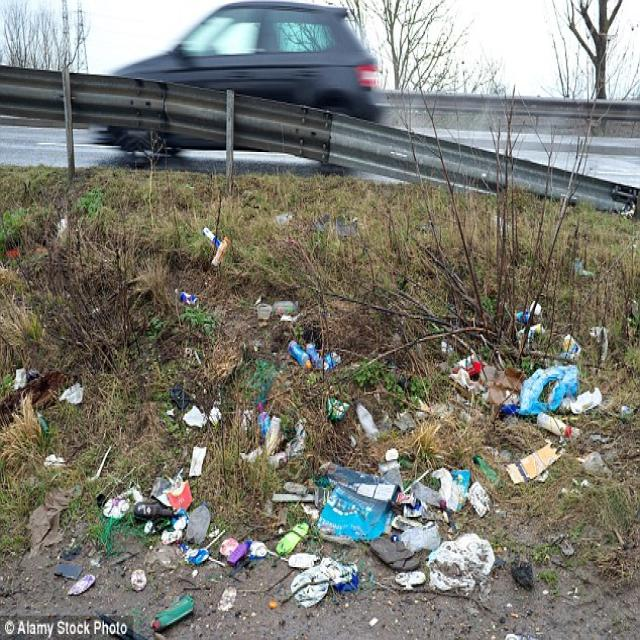garbage: (0, 217, 640, 640)
